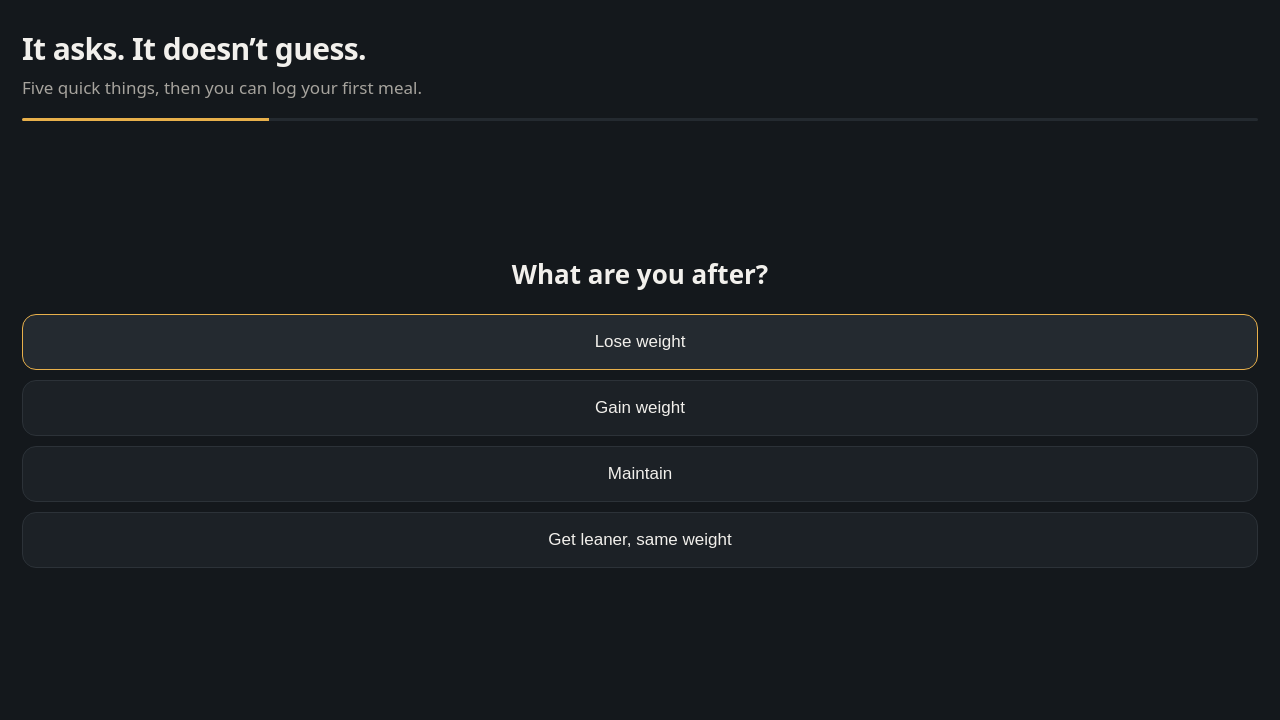
Onboarding › a step is one decision, and choosing moves on by itself
Click the button "Lose weight": (640,342) [22,314,1258,370]
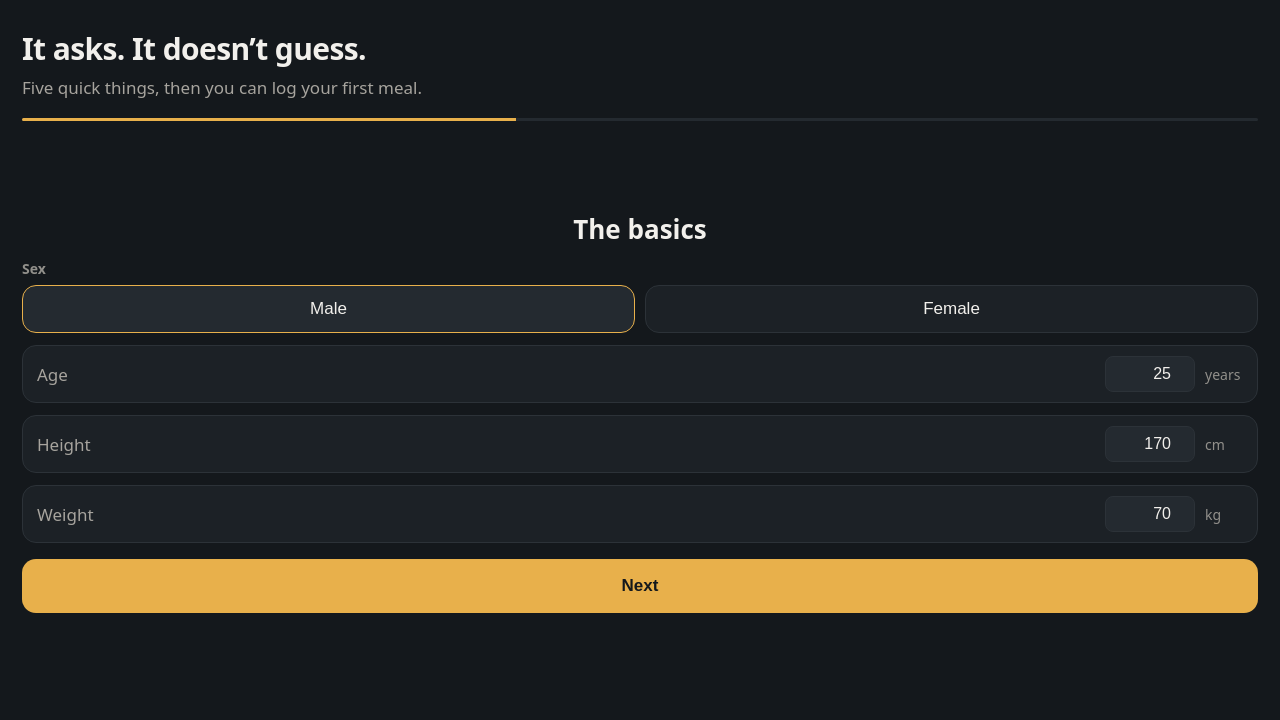
Now the heading "The basics" is shown, box [573,210,707,246]
Now the button "Lose weight" is gone
